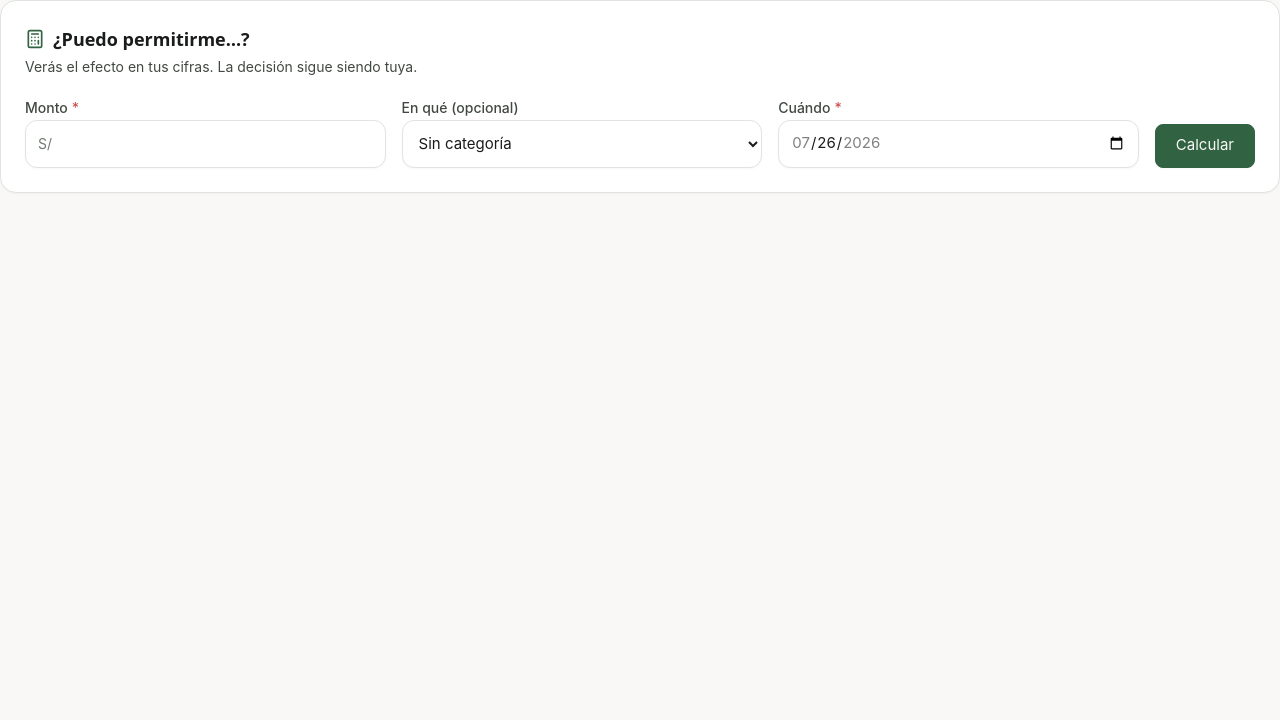
Test: Projections W-12 › SCR-PROY-03: envía monto, categoría y fecha, y muestra el efecto presupuestal sin escribir
The width and height of the screenshot is (1280, 720).
Type "300" into the field labelled "Monto*" at (216, 144), box left=60, top=120, right=373, bottom=166
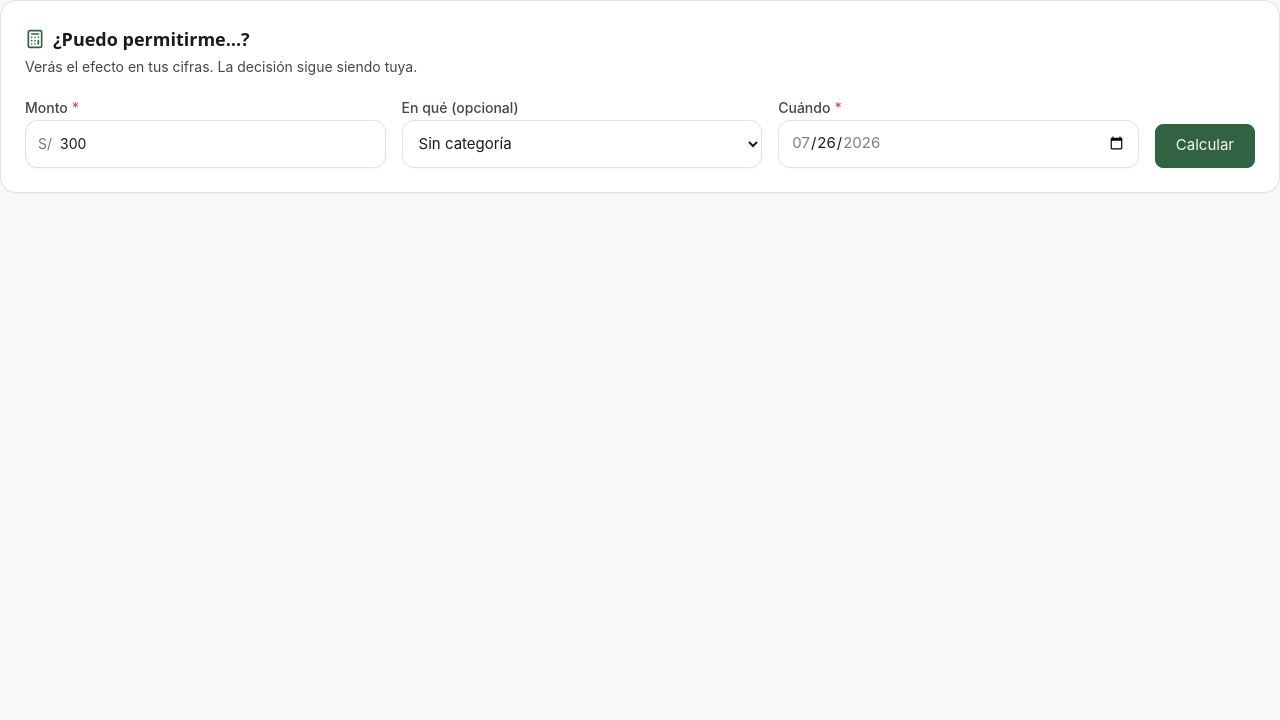
Select "Alimentación" in the dropdown labelled "En qué (opcional)" at (582, 144), box left=402, top=120, right=762, bottom=168
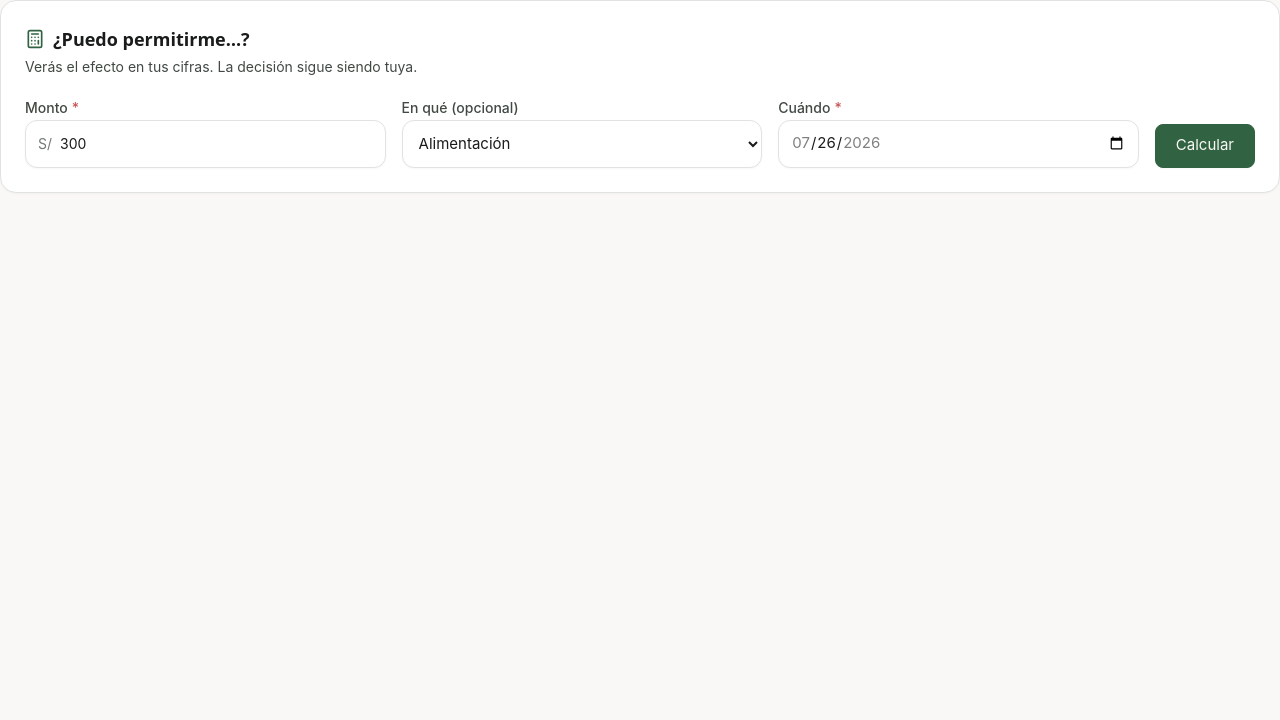
Type "2026-07-28" into the date field labelled "Cuándo*" at (958, 144), box left=778, top=120, right=1139, bottom=168
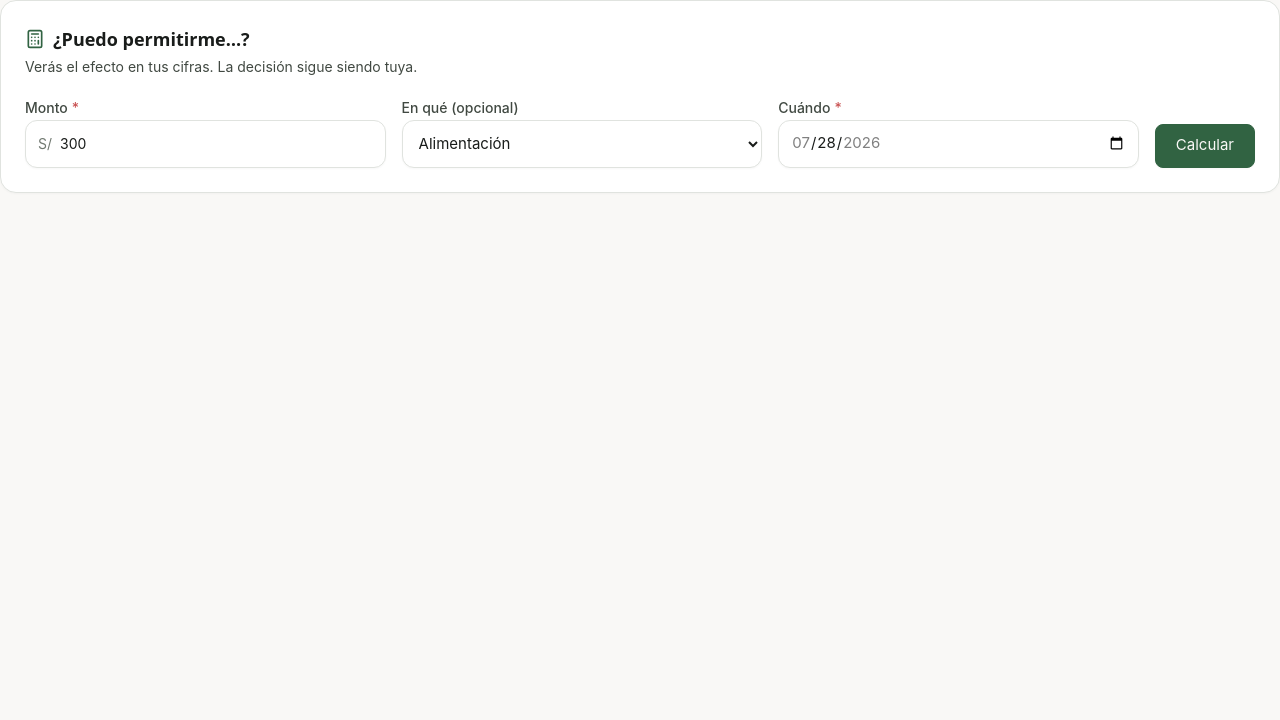
Click the button "Calcular" at (1205, 146), box left=1155, top=124, right=1255, bottom=168
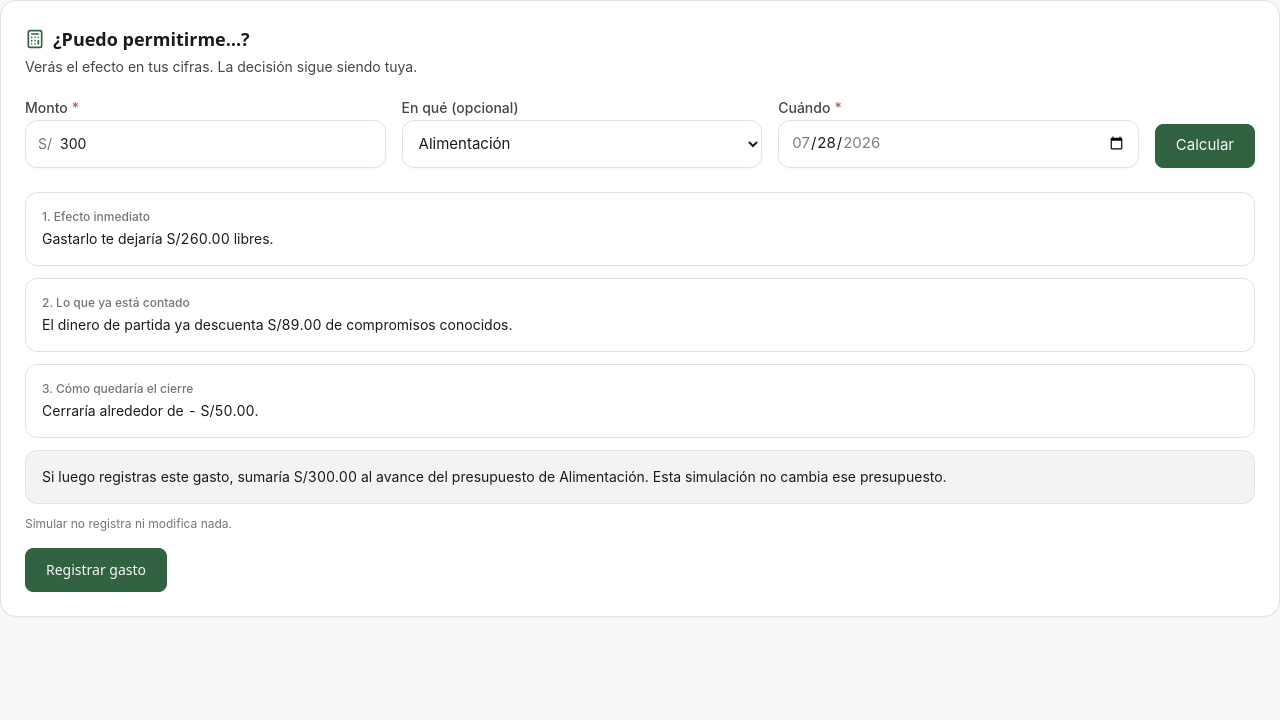
Expected: the text "presupuesto de Alimentación" is shown, left=25, top=450, right=1255, bottom=504
Expected: the text "S/300.00" is shown, left=294, top=468, right=357, bottom=484
Expected: the text "Simular no registra ni modifica nada." is shown, left=25, top=516, right=232, bottom=530
